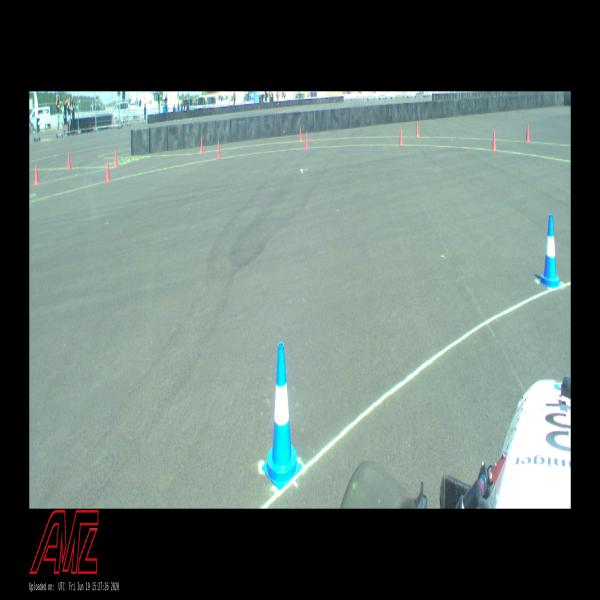blue_cone: (262, 343, 301, 489), (538, 214, 562, 287)
unknown_cone: (491, 129, 497, 152), (34, 164, 40, 186), (105, 159, 110, 182), (66, 151, 72, 170), (398, 128, 404, 146), (217, 140, 221, 160), (526, 123, 530, 142), (114, 151, 118, 168), (298, 127, 302, 142), (200, 137, 203, 153), (416, 120, 419, 136), (305, 132, 308, 148)
